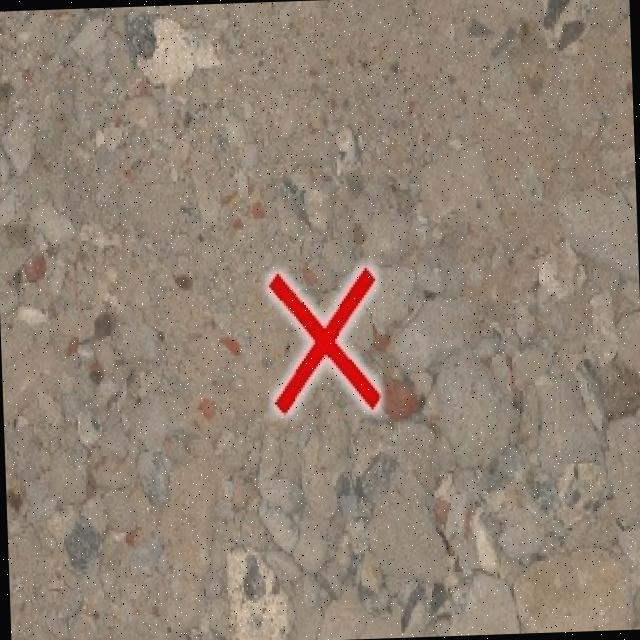x_marker: (267, 266, 378, 411)
